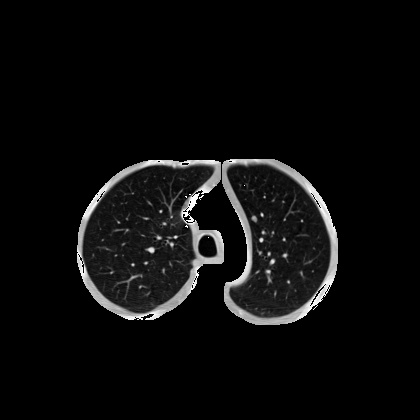PN: (250, 215, 258, 223)
